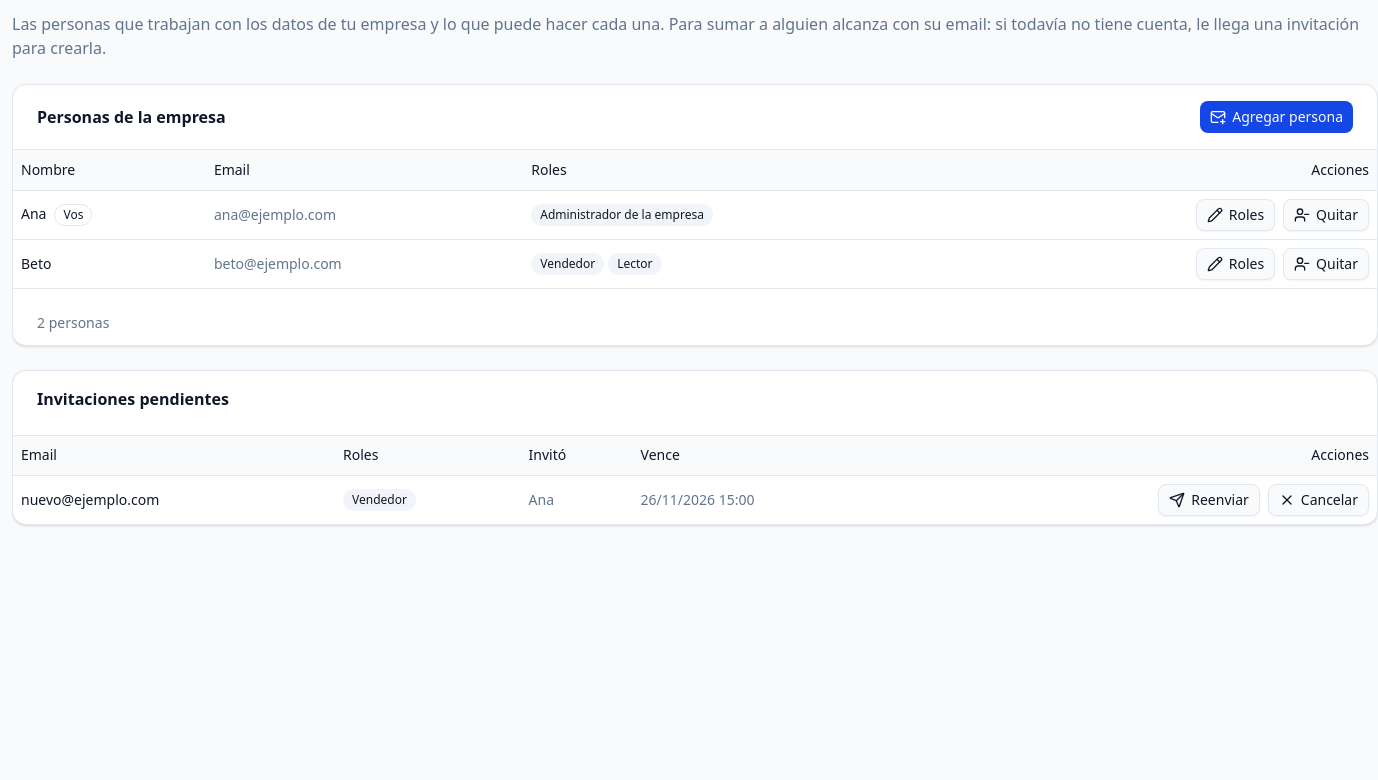
Test case: Equipo › invitaciones pendientes › cancelar anula la invitación
The width and height of the screenshot is (1378, 780).
Click the button with aria-label "Cancelar la invitación a nuevo@ejemplo.com": (1318, 500) [1268,484,1369,516]
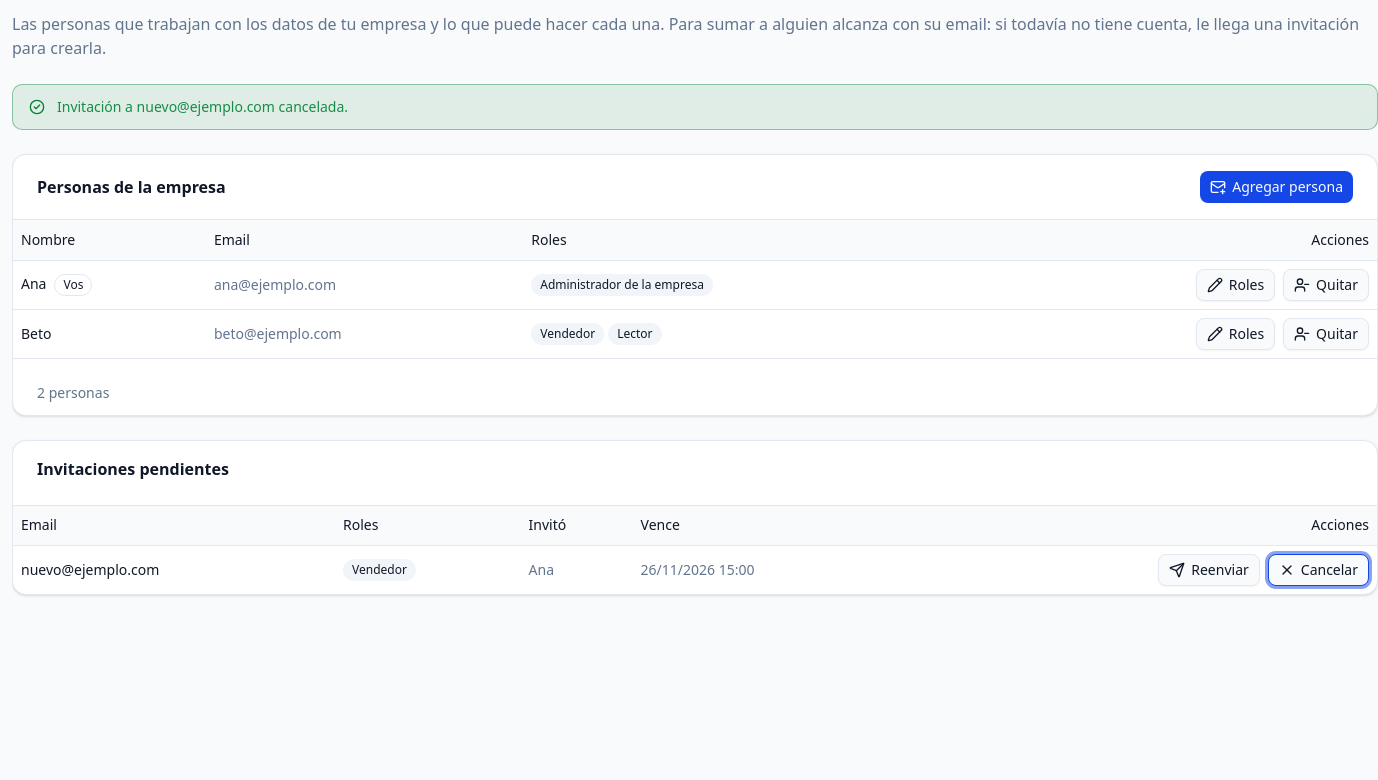
Check: the text "Invitación a nuevo@ejemplo.com cancelada." is shown, box [57,97,348,116]
